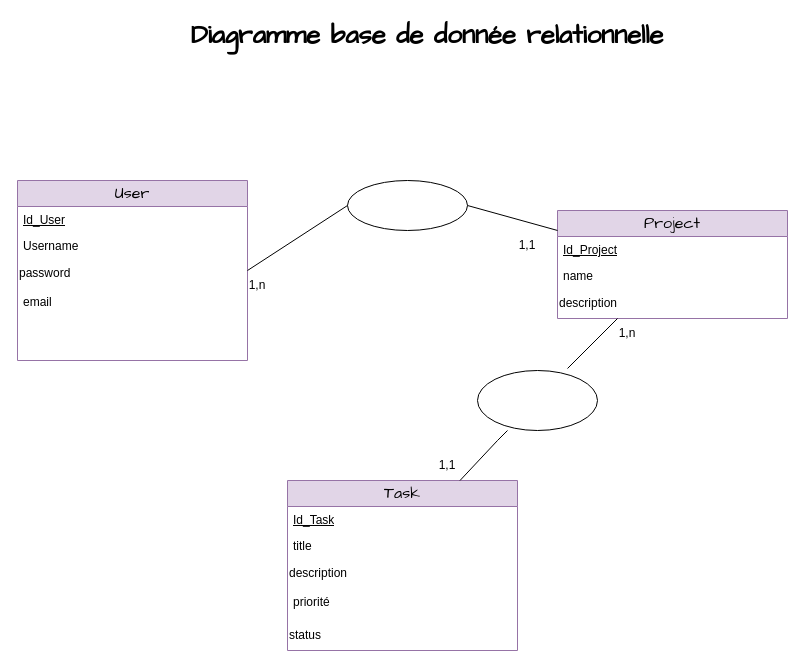
The diagram is 805 pixels wide and 668 high, and some of its shapes have lost their labels. Each missing label, with the box of its shape:
appartient: (476, 370, 598, 430)
Créer: (346, 180, 468, 230)
